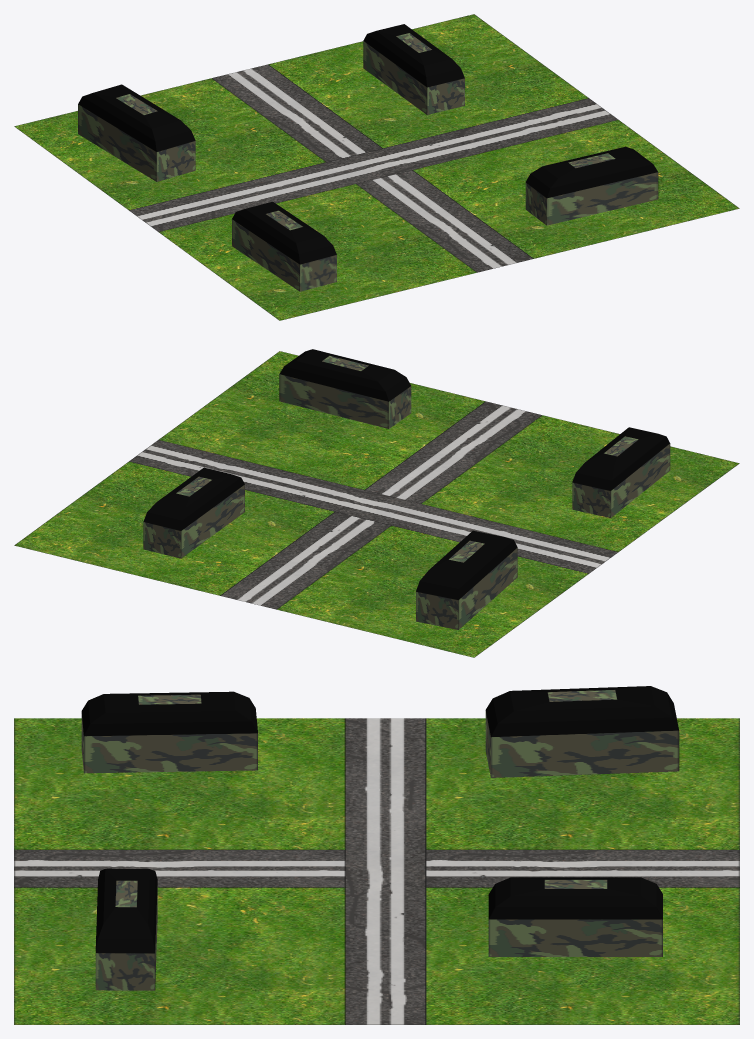
Rendered from Airfield.fbx.
3 renders of one model, top to bottom at view 1: azimuth 30°, elevation 25°; view 2: azimuth 150°, elevation 25°; view 3: azimuth 270°, elevation 25°, orthographic. The views are drawn at different scales.
Parts seen in each view (by area): view 1: Runway, Building1.003, Building1.001, Building1.002, Building1; view 2: Runway, Building1.001, Building1.003, Building1, Building1.002; view 3: Runway, Building1.003, Building1.002, Building1, Building1.001.
Boxes of the visible parts, bbox=[...] form: Runway: bbox=[14, 14, 739, 320]; Building1.003: bbox=[78, 84, 195, 181]; Building1.001: bbox=[525, 146, 658, 225]; Building1.002: bbox=[232, 201, 336, 291]; Building1: bbox=[363, 24, 464, 114]; Runway: bbox=[14, 351, 739, 657]; Building1.001: bbox=[279, 349, 411, 428]; Building1.003: bbox=[416, 530, 517, 629]; Building1: bbox=[143, 467, 244, 558]; Building1.002: bbox=[572, 427, 670, 517]; Runway: bbox=[14, 718, 739, 1024]; Building1.003: bbox=[485, 686, 679, 777]; Building1.002: bbox=[81, 691, 257, 773]; Building1: bbox=[488, 877, 662, 956]; Building1.001: bbox=[95, 868, 157, 990].
Size of the model in its own units: 18987 by 1914 by 18987.
